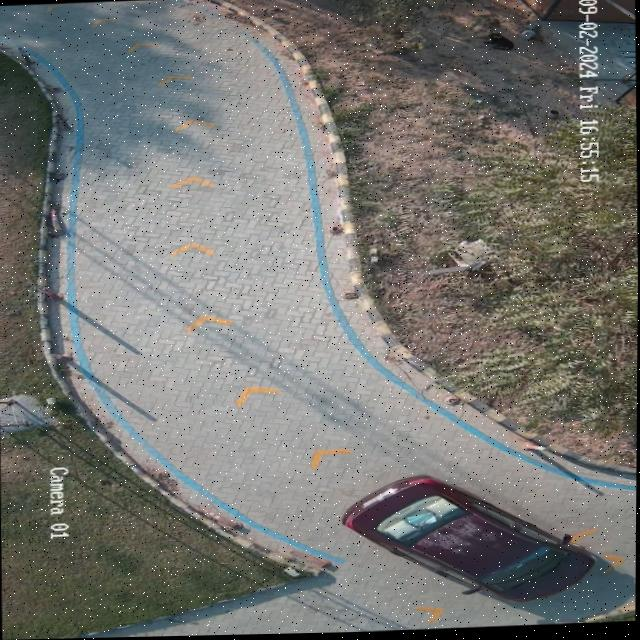car: (345, 477, 595, 605)
